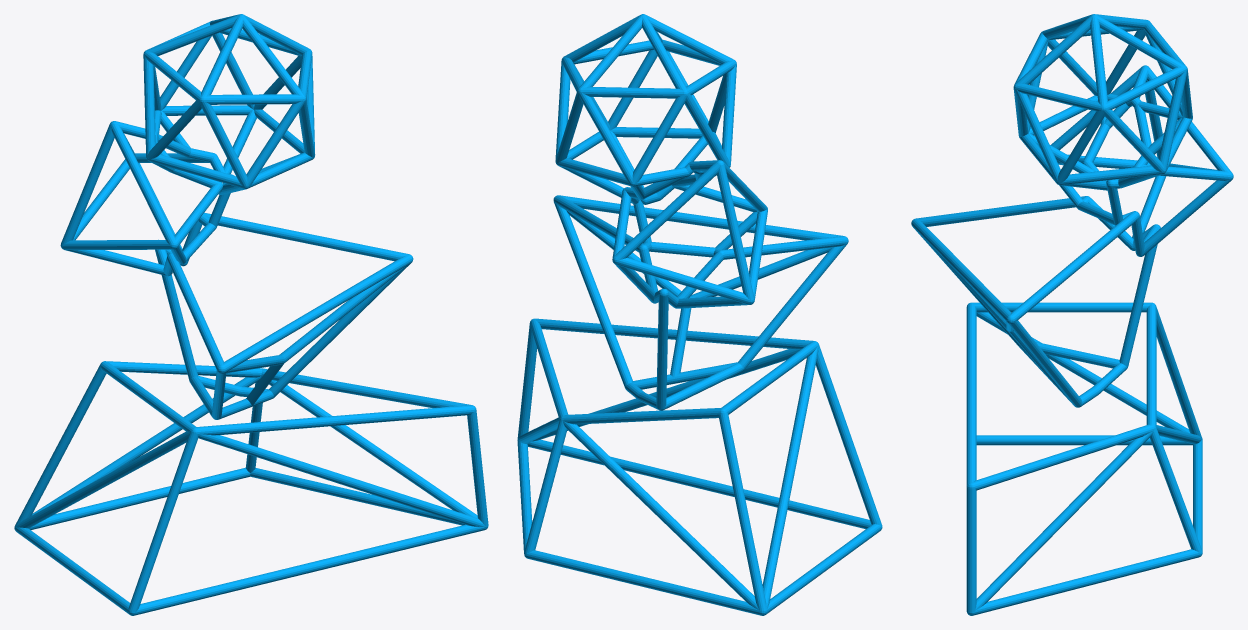
The picture shows the model from 3 angles, left to right: view 1: azimuth 30°, elevation 25°; view 2: azimuth 150°, elevation 25°; view 3: azimuth 270°, elevation 25°; orthographic projection.
Parts seen in each view (by area): view 1: Edge 15, Edge 20, Edge 18, Edge 29, Edge 22, Edge 17, Edge 7, Edge 38, Edge 37, Edge 16, Edge 45, Edge 35 (+30 smaller); view 2: Edge 15, Edge 36, Edge 38, Edge 17, Edge 18, Edge 35, Edge 29, Edge 0, Edge 37, Edge 34, Edge 51, Edge 14 (+41 smaller); view 3: Edge 22, Edge 16, Edge 45, Edge 18, Edge 7, Edge 14, Edge 32, Edge 38, Edge 40, Edge 29, Edge 19, Edge 21 (+27 smaller).
Boxes of the visible parts, x1=… form: Edge 15: x1=134, y1=524, x2=485, y2=615; Edge 20: x1=198, y1=434, x2=485, y2=527; Edge 18: x1=196, y1=405, x2=473, y2=435; Edge 29: x1=222, y1=255, x2=411, y2=372; Edge 22: x1=261, y1=376, x2=477, y2=518; Edge 17: x1=29, y1=467, x2=250, y2=529; Edge 7: x1=203, y1=212, x2=409, y2=261; Edge 38: x1=15, y1=431, x2=190, y2=528; Edge 37: x1=128, y1=431, x2=198, y2=612; Edge 16: x1=250, y1=468, x2=464, y2=525; Edge 45: x1=261, y1=368, x2=471, y2=407; Edge 35: x1=15, y1=364, x2=106, y2=526; Edge 15: x1=527, y1=439, x2=871, y2=529; Edge 36: x1=562, y1=420, x2=759, y2=610; Edge 38: x1=762, y1=346, x2=818, y2=609; Edge 17: x1=526, y1=550, x2=760, y2=615; Edge 18: x1=534, y1=318, x2=813, y2=348; Edge 35: x1=719, y1=412, x2=766, y2=611; Edge 29: x1=559, y1=195, x2=842, y2=240; Edge 0: x1=554, y1=202, x2=632, y2=387; Edge 37: x1=816, y1=345, x2=882, y2=525; Edge 34: x1=562, y1=408, x2=721, y2=424; Edge 51: x1=738, y1=243, x2=847, y2=369; Edge 14: x1=766, y1=524, x2=881, y2=614; Edge 22: x1=975, y1=431, x2=1153, y2=610; Edge 16: x1=973, y1=549, x2=1200, y2=615; Edge 45: x1=972, y1=424, x2=1154, y2=490; Edge 18: x1=966, y1=303, x2=976, y2=485; Edge 7: x1=1010, y1=212, x2=1138, y2=320; Edge 14: x1=976, y1=435, x2=1192, y2=445; Edge 32: x1=915, y1=196, x2=1085, y2=226; Edge 38: x1=976, y1=312, x2=1189, y2=433; Edge 40: x1=972, y1=302, x2=1151, y2=312; Edge 29: x1=911, y1=219, x2=1011, y2=321; Edge 19: x1=966, y1=487, x2=976, y2=612; Edge 21: x1=1150, y1=427, x2=1202, y2=552.
Size of the model in its own units: 2.5 by 3.42 by 1.95.
